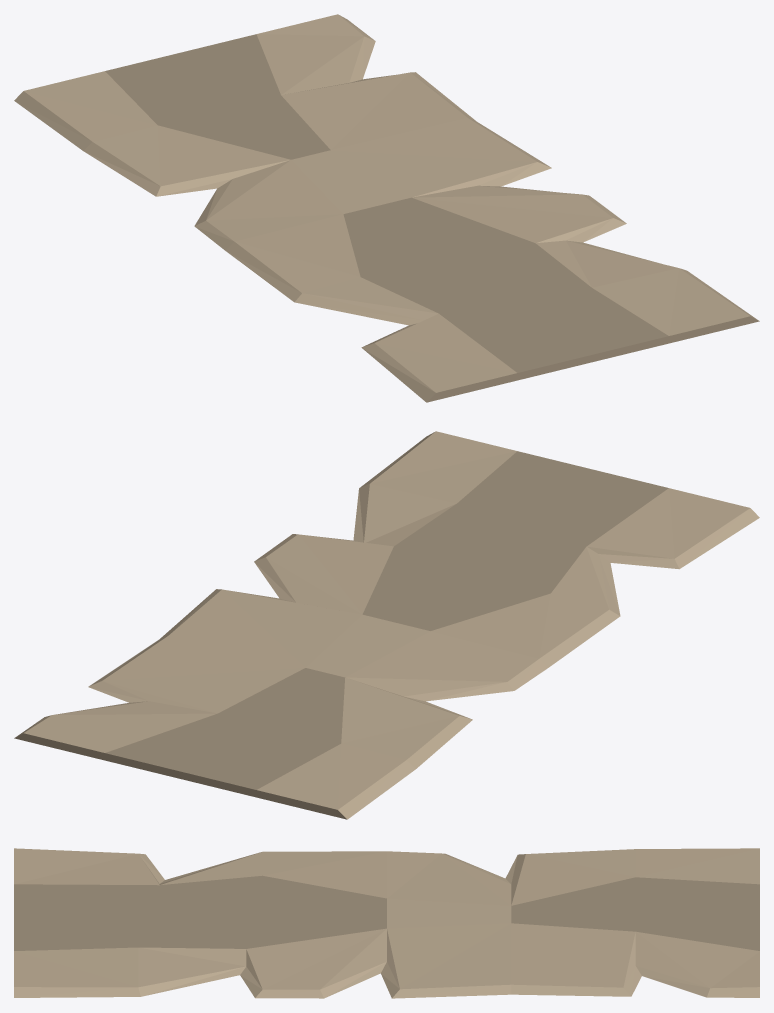
File: dirt-trail-strip-1be7a6.glb
The picture shows the model from 3 angles, top to bottom: view 1: azimuth 30°, elevation 25°; view 2: azimuth 150°, elevation 25°; view 3: azimuth 270°, elevation 25°; orthographic projection. The views are drawn at different scales.
Visible parts, largest first — view 1: dirt-trail-strip-mesh; view 2: dirt-trail-strip-mesh; view 3: dirt-trail-strip-mesh.
Part boxes in pixels (x1,y1,x2,y2): dirt-trail-strip-mesh: [14, 14, 759, 402]; dirt-trail-strip-mesh: [14, 431, 759, 819]; dirt-trail-strip-mesh: [14, 848, 759, 998].
Bounding box in the file's own units: 1.41 × 0.03 × 3.
